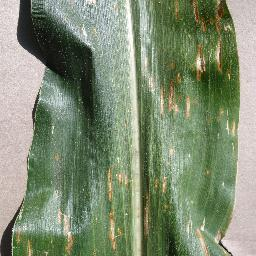Gray_Leaf_Spot: (142, 171, 174, 256), (104, 161, 132, 251), (183, 212, 236, 256), (157, 59, 194, 119), (215, 0, 242, 72), (51, 203, 80, 256), (216, 108, 242, 141), (191, 0, 215, 33), (17, 227, 38, 256), (195, 40, 207, 81), (172, 0, 182, 22), (56, 147, 63, 166), (170, 141, 175, 164), (237, 97, 238, 98)
